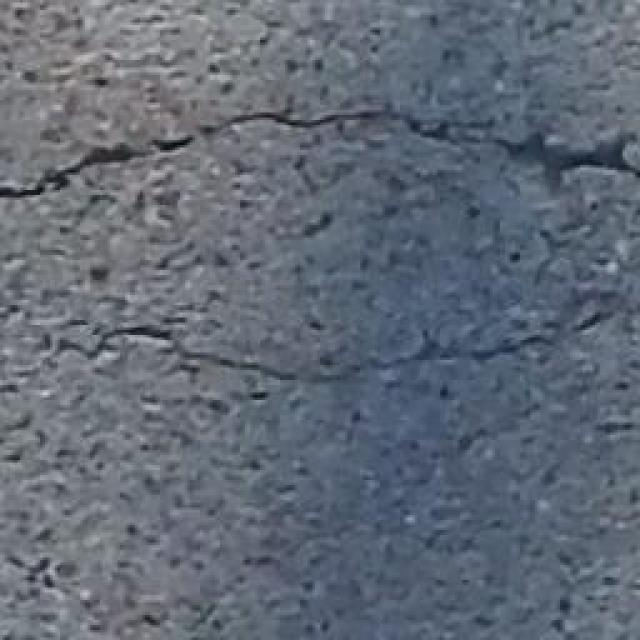concrete-crack: (2, 105, 640, 207), (39, 298, 637, 391)
